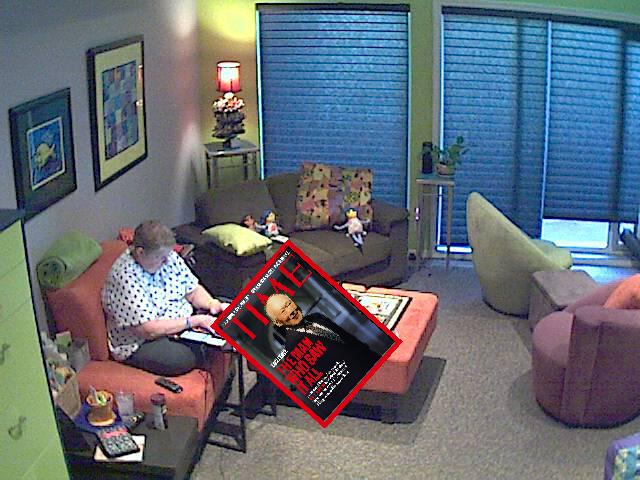times: (210, 236, 405, 428)
